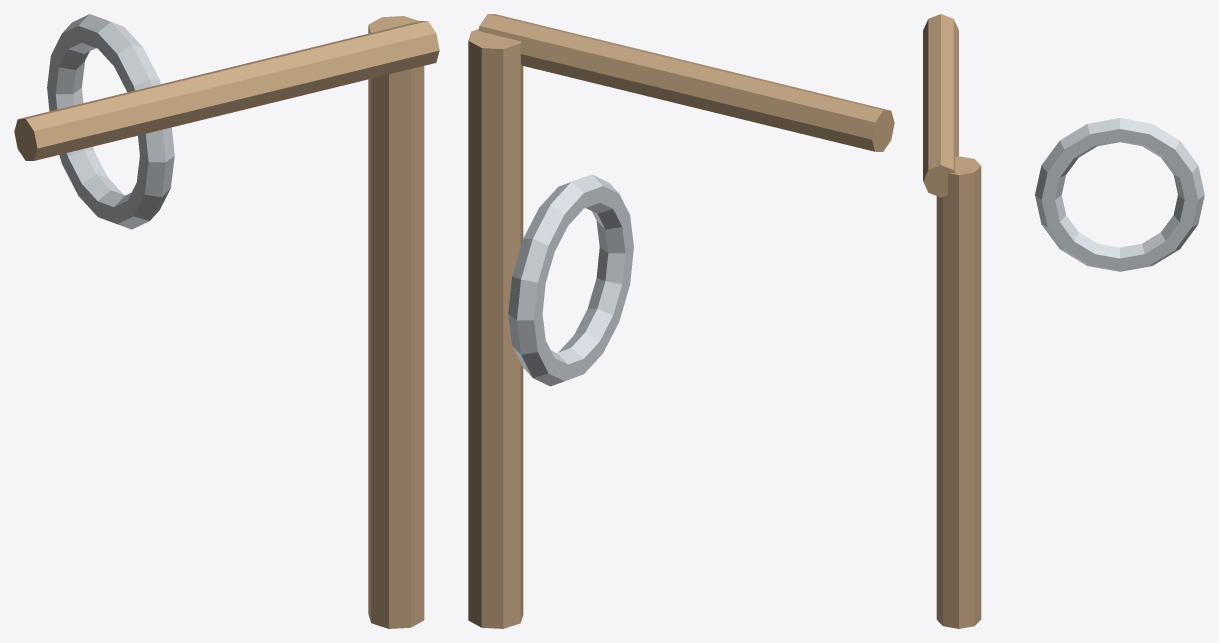
Rendered from castillete.glb.
The picture shows the model from 3 angles, left to right: view 1: azimuth 30°, elevation 25°; view 2: azimuth 150°, elevation 25°; view 3: azimuth 270°, elevation 25°; orthographic projection. The views are drawn at different scales.
Parts seen in each view (by area): view 1: pilar, viga, polea; view 2: pilar, viga, polea; view 3: pilar, polea, viga.
Part boxes in pixels (x1=…): pilar: x1=368, y1=16, x2=424, y2=628; viga: x1=14, y1=21, x2=439, y2=160; polea: x1=47, y1=14, x2=174, y2=229; pilar: x1=468, y1=29, x2=523, y2=628; viga: x1=478, y1=14, x2=894, y2=151; polea: x1=508, y1=174, x2=633, y2=386; pilar: x1=936, y1=156, x2=981, y2=628; polea: x1=1035, y1=118, x2=1204, y2=271; viga: x1=923, y1=14, x2=958, y2=197.
Size of the model in its own units: 0.405 by 0.57 by 0.315.
